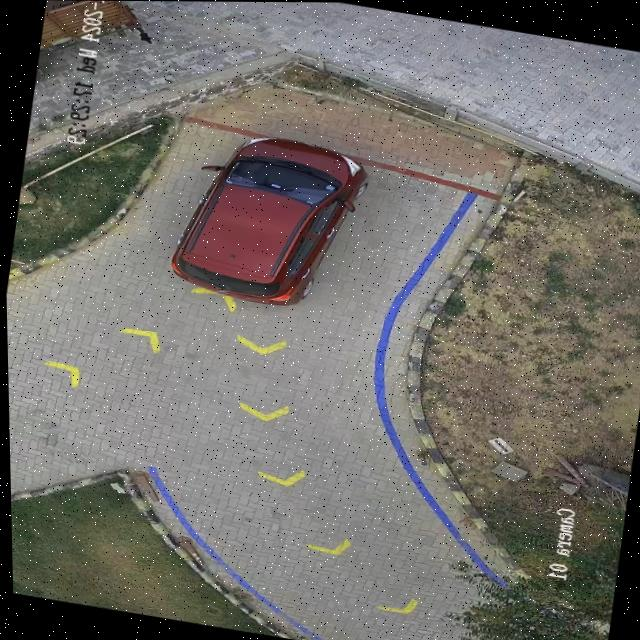car: (172, 137, 363, 301)
